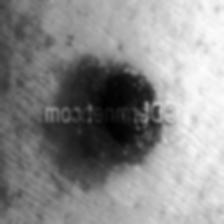Potentially Malignant Skin Tumors: (102, 73, 150, 151)
